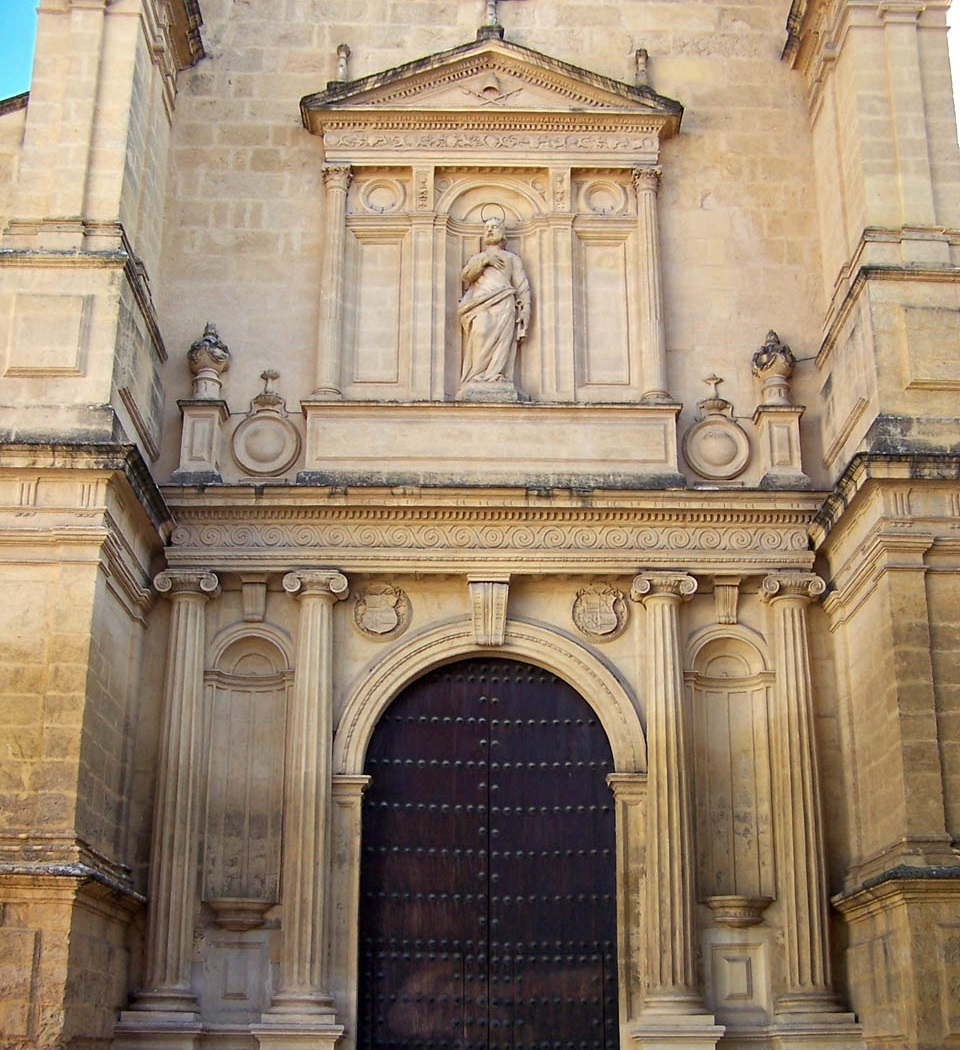arco-medio-punto: (346, 639, 635, 821)
fronton: (294, 30, 691, 135)
serliana: (328, 160, 643, 394)
